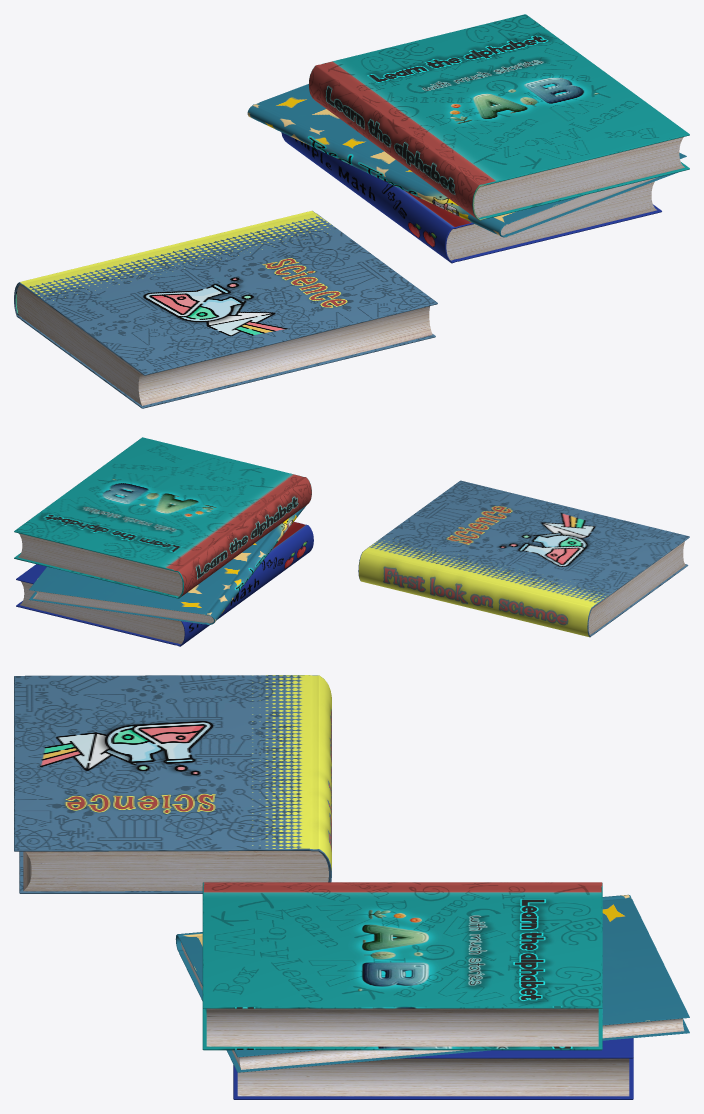
The model's file is children_books.glb.
3 renders of one model, top to bottom at view 1: azimuth 30°, elevation 25°; view 2: azimuth 150°, elevation 25°; view 3: azimuth 270°, elevation 25°, orthographic. The views are drawn at different scales.
Parts seen in each view (by area): view 1: Cube.006_5, Cube.008_7, Cube.007_6, Cube.004_3, Cube.005_4, Cube.002_1, Cube.001_0, Cube.003_2; view 2: Cube.008_7, Cube.006_5, Cube.004_3, Cube.005_4, Cube.002_1, Cube.001_0, Cube.007_6, Cube.003_2; view 3: Cube.008_7, Cube.006_5, Cube.005_4, Cube.001_0, Cube.007_6, Cube.004_3, Cube.002_1, Cube.003_2.
Boxes of the visible parts, bbox=[...] form: Cube.006_5: bbox=[308, 14, 689, 220]; Cube.008_7: bbox=[14, 210, 437, 408]; Cube.007_6: bbox=[16, 284, 432, 405]; Cube.004_3: bbox=[247, 84, 686, 237]; Cube.005_4: bbox=[474, 137, 684, 217]; Cube.002_1: bbox=[281, 132, 661, 263]; Cube.001_0: bbox=[446, 181, 656, 260]; Cube.003_2: bbox=[501, 177, 657, 235]; Cube.008_7: bbox=[358, 480, 689, 637]; Cube.006_5: bbox=[14, 437, 311, 598]; Cube.004_3: bbox=[29, 505, 306, 624]; Cube.005_4: bbox=[18, 533, 182, 596]; Cube.002_1: bbox=[16, 522, 313, 646]; Cube.001_0: bbox=[20, 581, 184, 644]; Cube.007_6: bbox=[588, 541, 685, 634]; Cube.003_2: bbox=[33, 591, 213, 623]; Cube.008_7: bbox=[14, 675, 331, 893]; Cube.006_5: bbox=[202, 882, 602, 1050]; Cube.005_4: bbox=[206, 1008, 598, 1046]; Cube.001_0: bbox=[237, 1058, 629, 1096]; Cube.007_6: bbox=[23, 851, 328, 891]; Cube.004_3: bbox=[175, 894, 689, 1072]; Cube.002_1: bbox=[233, 1038, 633, 1099]; Cube.003_2: bbox=[181, 942, 684, 1069].
Size of the model in its own units: 15.04 by 1.9 by 11.4.
Materials: 5 (5 with a texture image).
